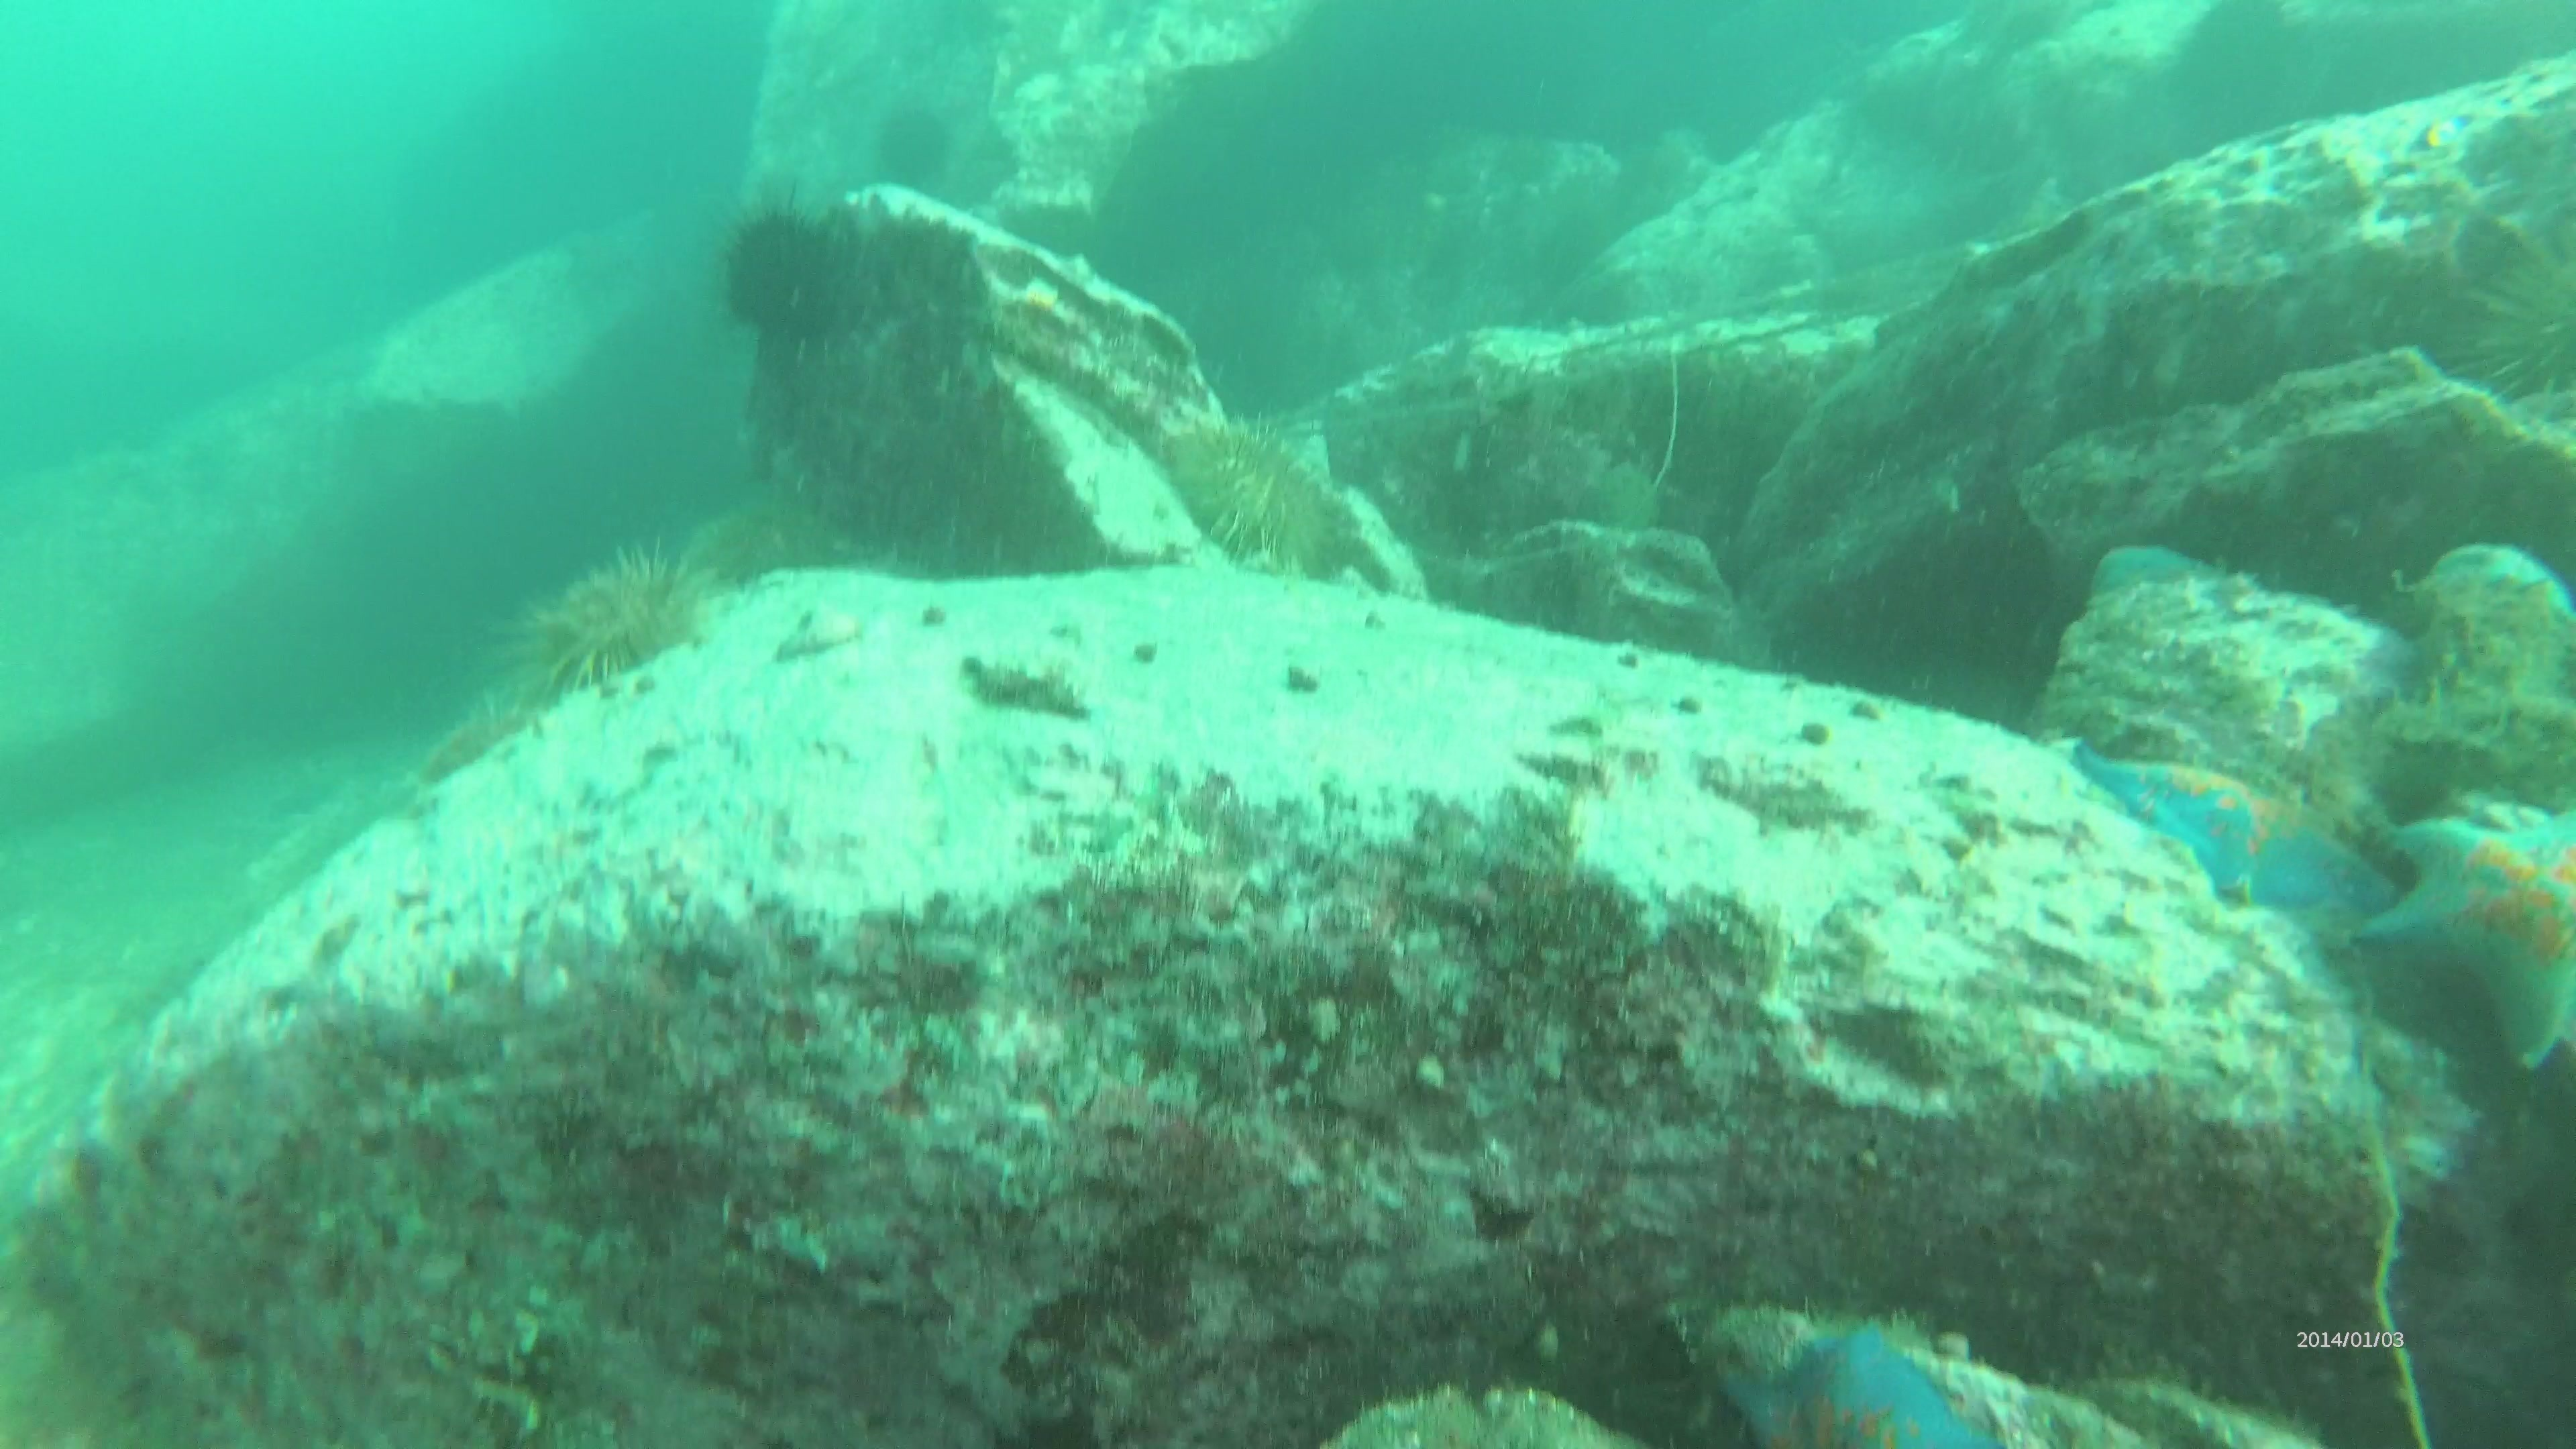echinus: (511, 538, 727, 699), (1155, 409, 1343, 573), (709, 195, 867, 356), (2463, 211, 2574, 419), (865, 97, 962, 200)
starfish: (2063, 738, 2404, 931), (2348, 789, 2574, 1079), (1704, 1304, 1996, 1442)
